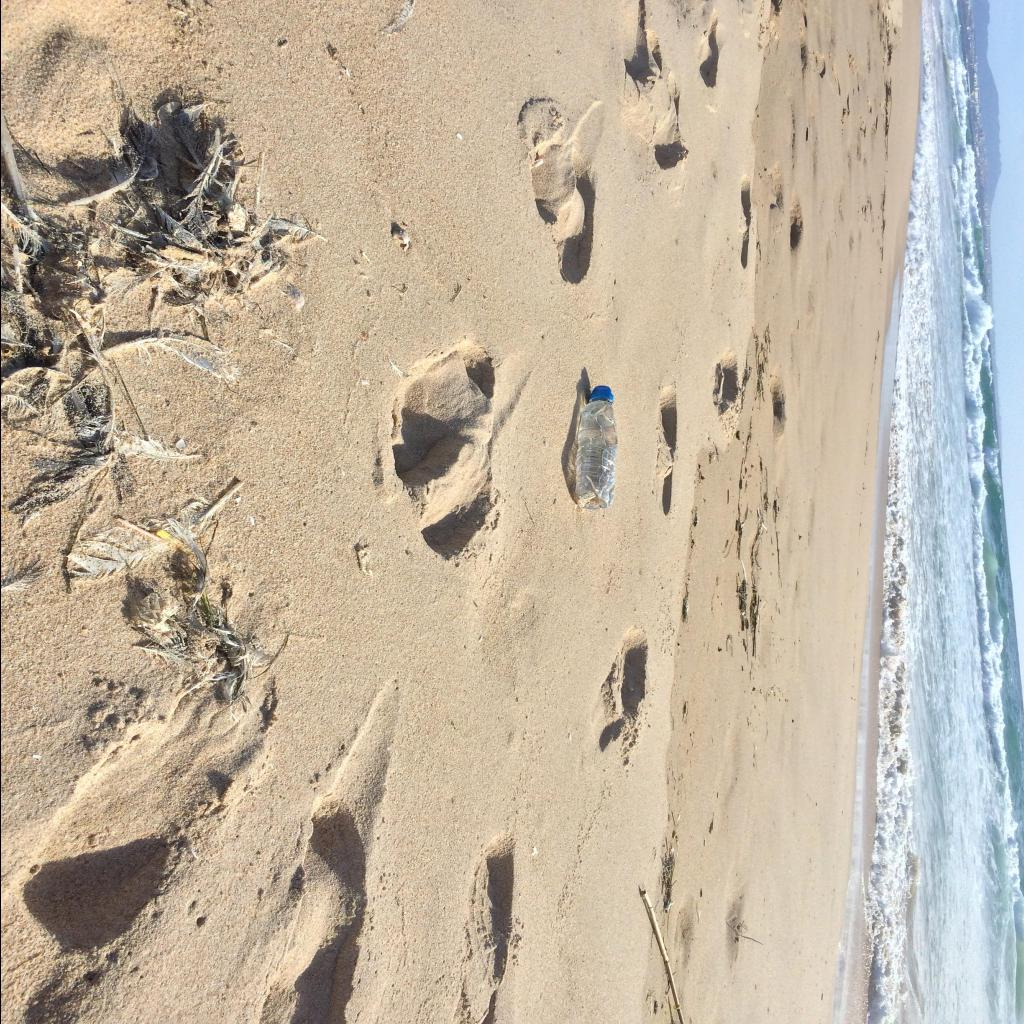Clear plastic bottle: (574, 385, 618, 510)
Plastic bottle cap: (588, 386, 613, 400)
Unlabeled litter: (156, 529, 194, 555)
